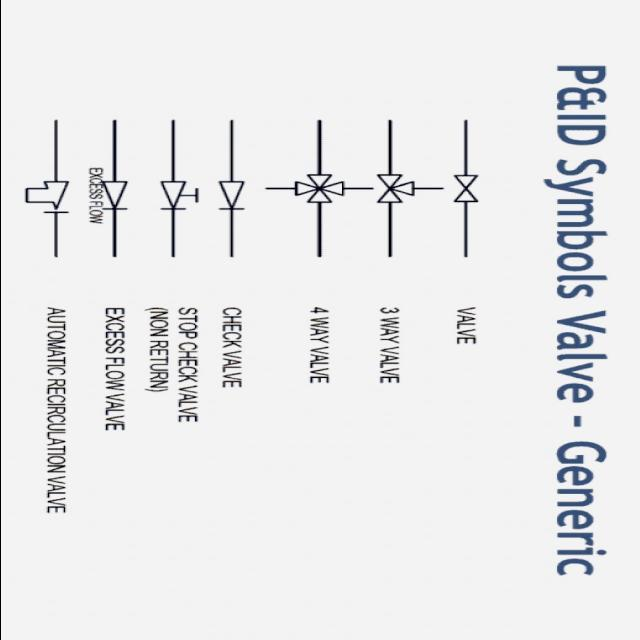3 Way Gate Valve: (372, 167, 430, 207)
4 Way Gate Valve: (274, 168, 359, 210)
Gate Valve: (445, 170, 487, 207)
